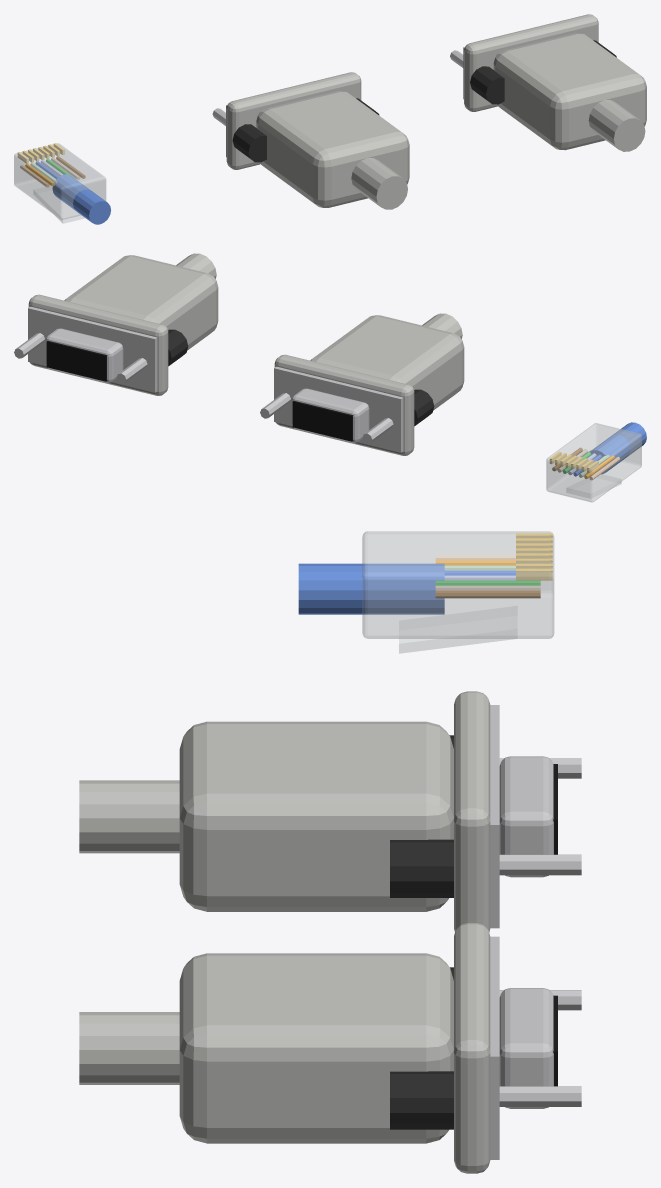
Rendered from cable_console.glb.
The picture shows the model from 3 angles, top to bottom: view 1: azimuth 30°, elevation 25°; view 2: azimuth 150°, elevation 25°; view 3: azimuth 270°, elevation 25°; orthographic projection. The views are drawn at different scales.
Parts seen in each view (by area): view 1: end_db9_mesh, end_db9_b_mesh, plug_body, variant_ok_mesh, latch; view 2: end_db9_mesh, end_db9_b_mesh, plug_body, variant_ok_mesh, latch; view 3: end_db9_b_mesh, end_db9_mesh, plug_body, variant_ok_mesh, latch.
Boxes of the visible parts, x1,y1,x2,y2 form: end_db9_mesh: (212, 72, 409, 209); end_db9_b_mesh: (450, 14, 646, 151); plug_body: (14, 143, 106, 219); variant_ok_mesh: (20, 156, 110, 224); latch: (33, 186, 85, 223); end_db9_mesh: (260, 313, 464, 455); end_db9_b_mesh: (14, 253, 218, 395); plug_body: (546, 423, 641, 502); variant_ok_mesh: (552, 422, 646, 480); latch: (566, 474, 621, 498); end_db9_b_mesh: (79, 923, 581, 1173); end_db9_mesh: (79, 691, 581, 932); plug_body: (362, 531, 554, 638); variant_ok_mesh: (298, 555, 540, 614); latch: (399, 606, 517, 653).
Bounding box in the file's own units: 0.1425 × 0.016 × 0.055.
